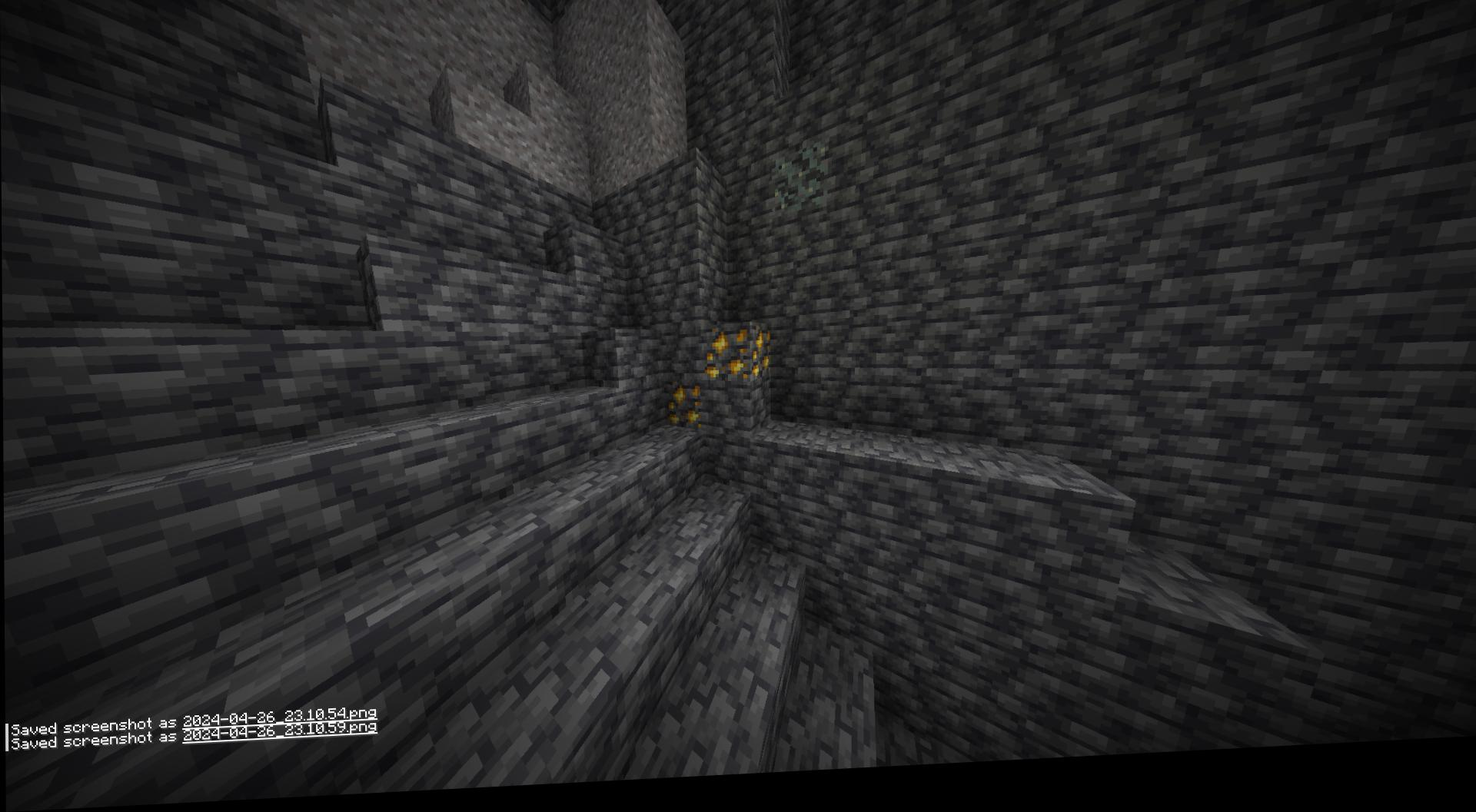gold ore: (702, 326, 777, 397), (660, 387, 701, 437)
